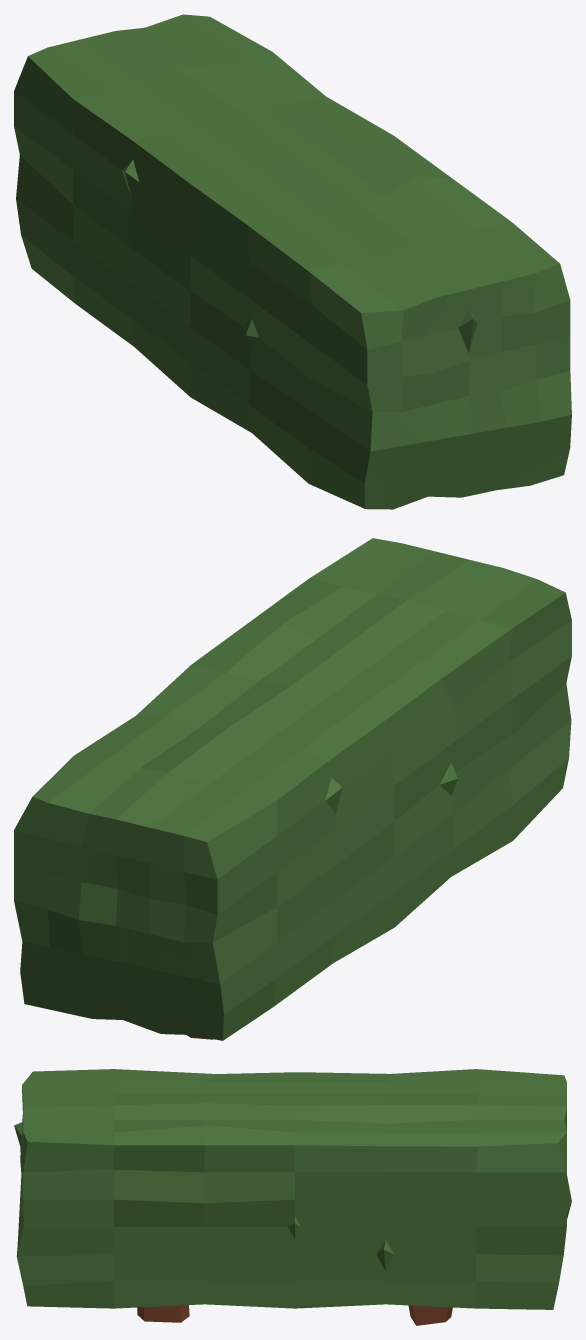
The model's file is bush1.fbx.
3 renders of one model, top to bottom at view 1: azimuth 30°, elevation 25°; view 2: azimuth 150°, elevation 25°; view 3: azimuth 270°, elevation 25°, orthographic. The views are drawn at different scales.
Visible parts, largest first — view 1: short hedge; view 2: short hedge; view 3: short hedge.
Boxes of the visible parts, bbox=[...] form: short hedge: bbox=[14, 14, 571, 509]; short hedge: bbox=[14, 538, 571, 1040]; short hedge: bbox=[14, 1069, 571, 1325].
Size of the model in its own units: 131 by 160 by 373.
